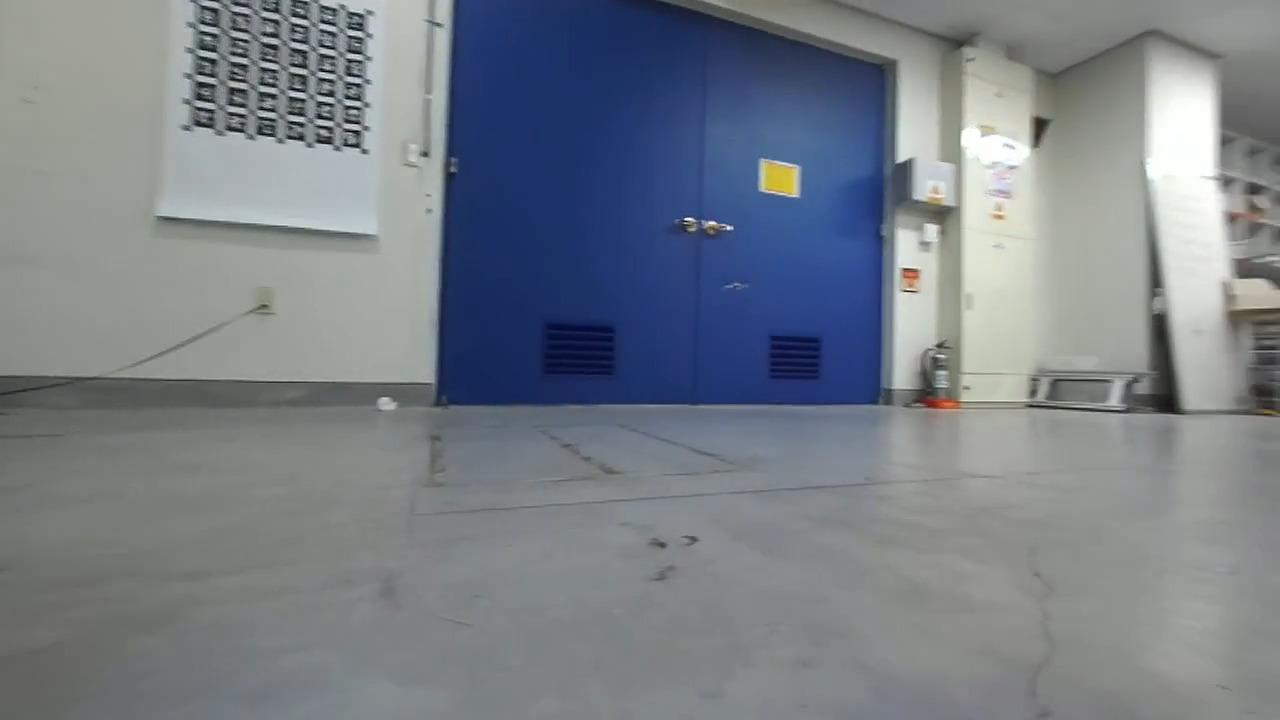crazyflie: (713, 277, 757, 295)
